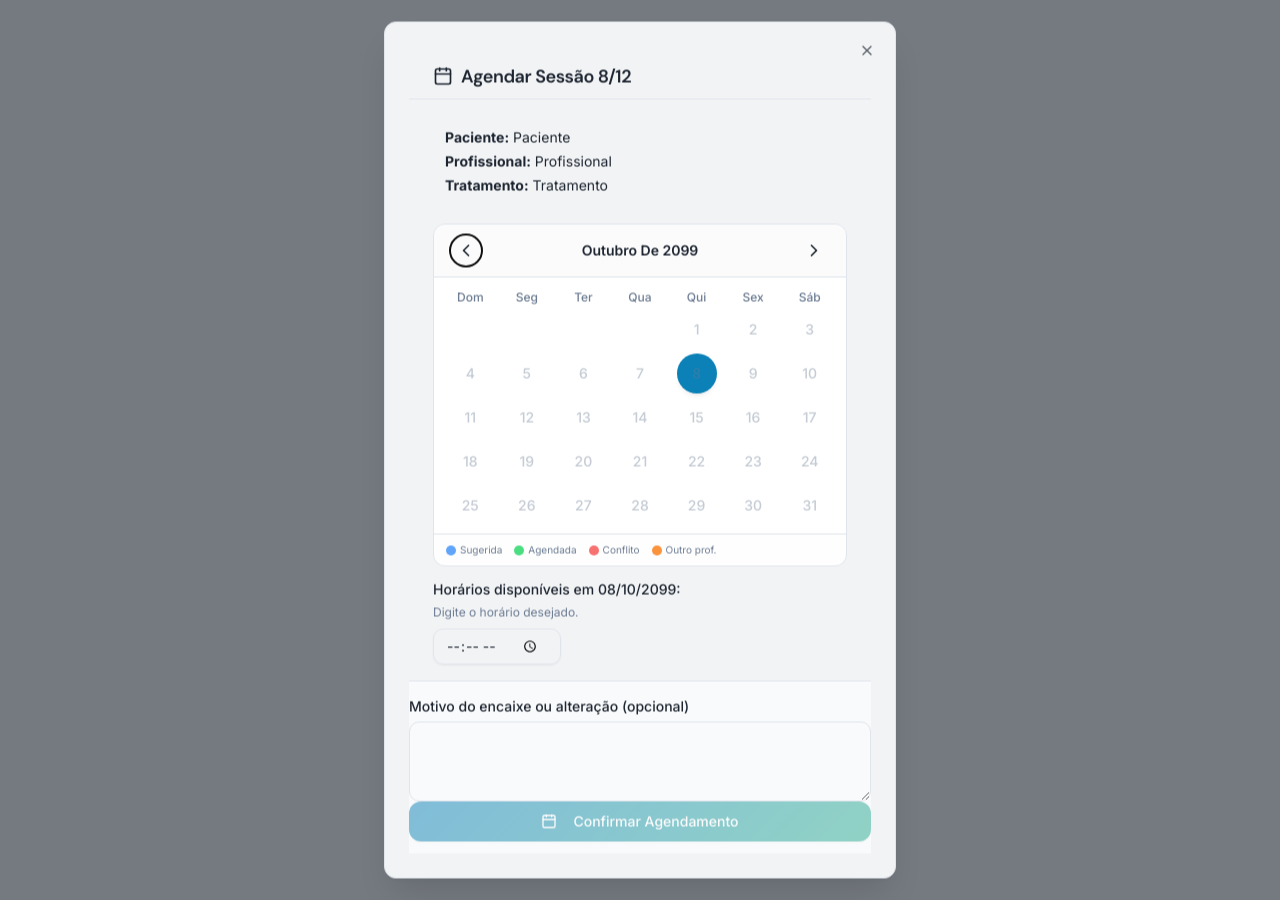
Scenario: ModalAgendarSessao › permite ao perfil autorizado usar hora fora de qualquer turno sem motivo digitado
Later steps or results of the test are not shown.
Step 1. Click the button "9" → (753, 374), box left=735, top=356, right=771, bottom=392
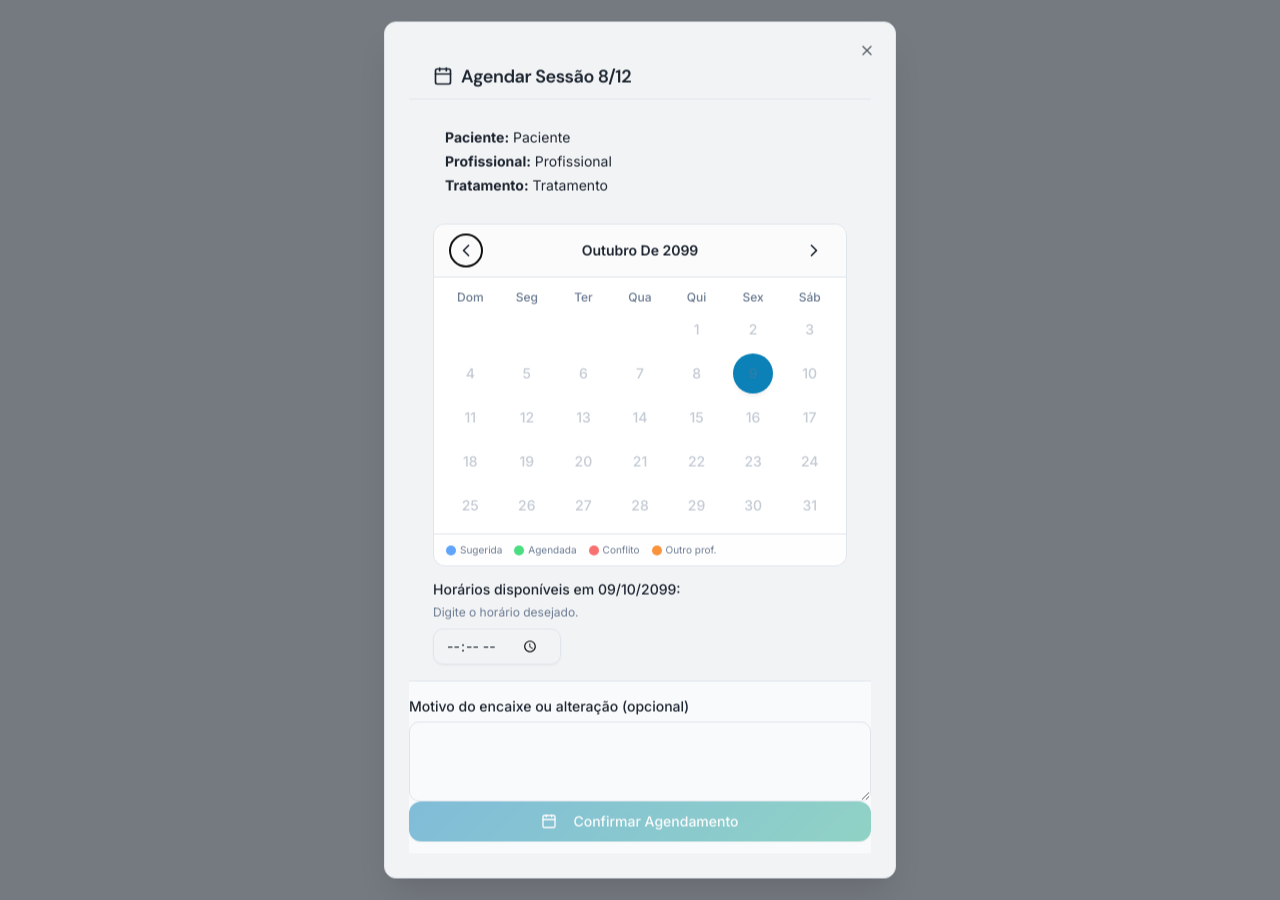
Step 2. Type "17:00" into the time field → (497, 646), box left=433, top=628, right=561, bottom=664
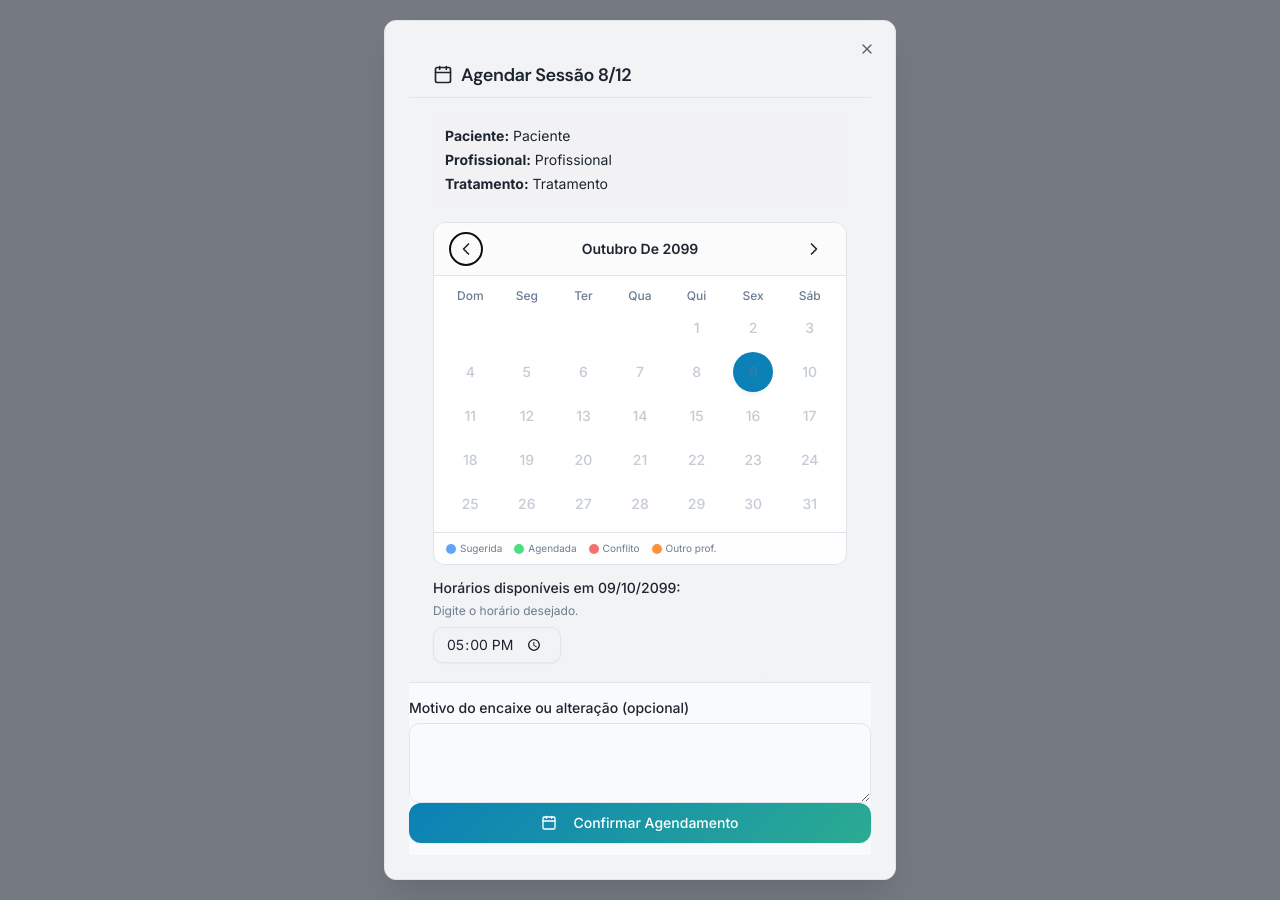
Expected: the text box labelled "Motivo do encaixe ou alteração (opcional)" is empty, left=409, top=723, right=871, bottom=803
Expected: the button "Confirmar Agendamento" is enabled, left=409, top=803, right=871, bottom=843
